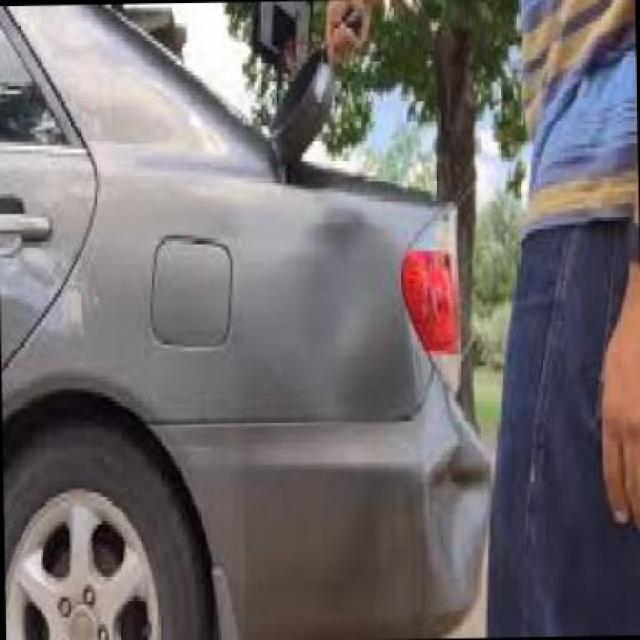dent: (282, 211, 394, 408), (422, 431, 492, 614)
